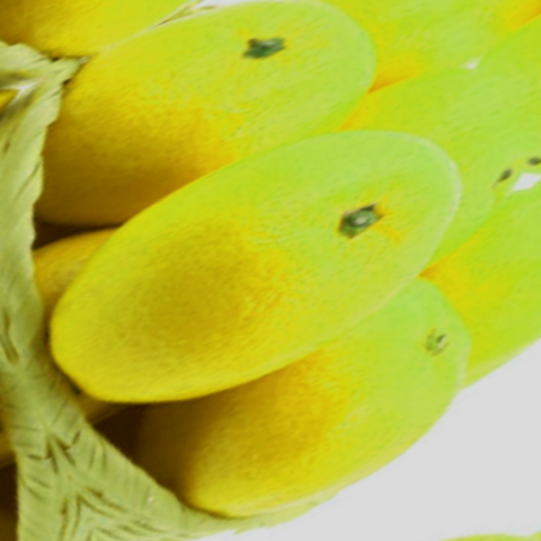orange: (11, 65, 521, 464), (112, 224, 541, 541), (0, 0, 434, 289)
